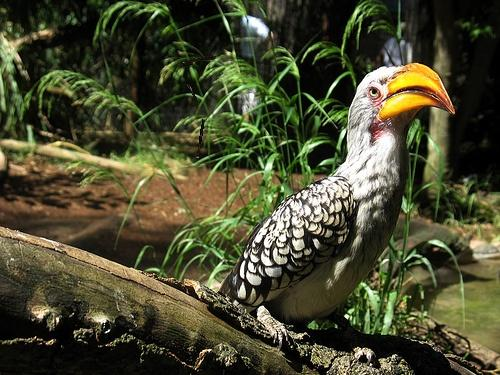tampered: (182, 56, 216, 158)
